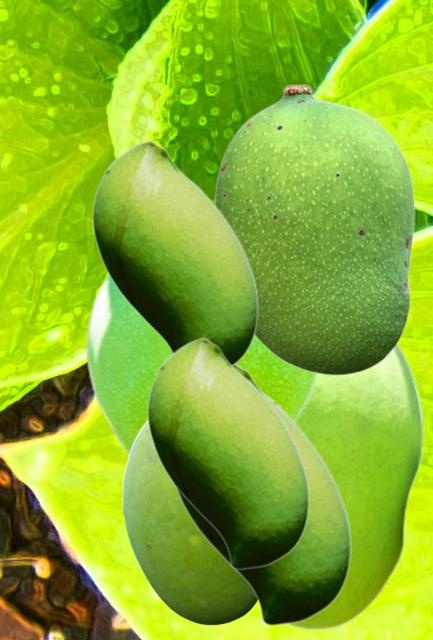green_mango: (213, 83, 414, 375), (257, 343, 423, 629), (171, 364, 350, 625), (86, 272, 321, 458), (121, 391, 292, 624), (146, 336, 308, 569), (91, 139, 257, 365)
